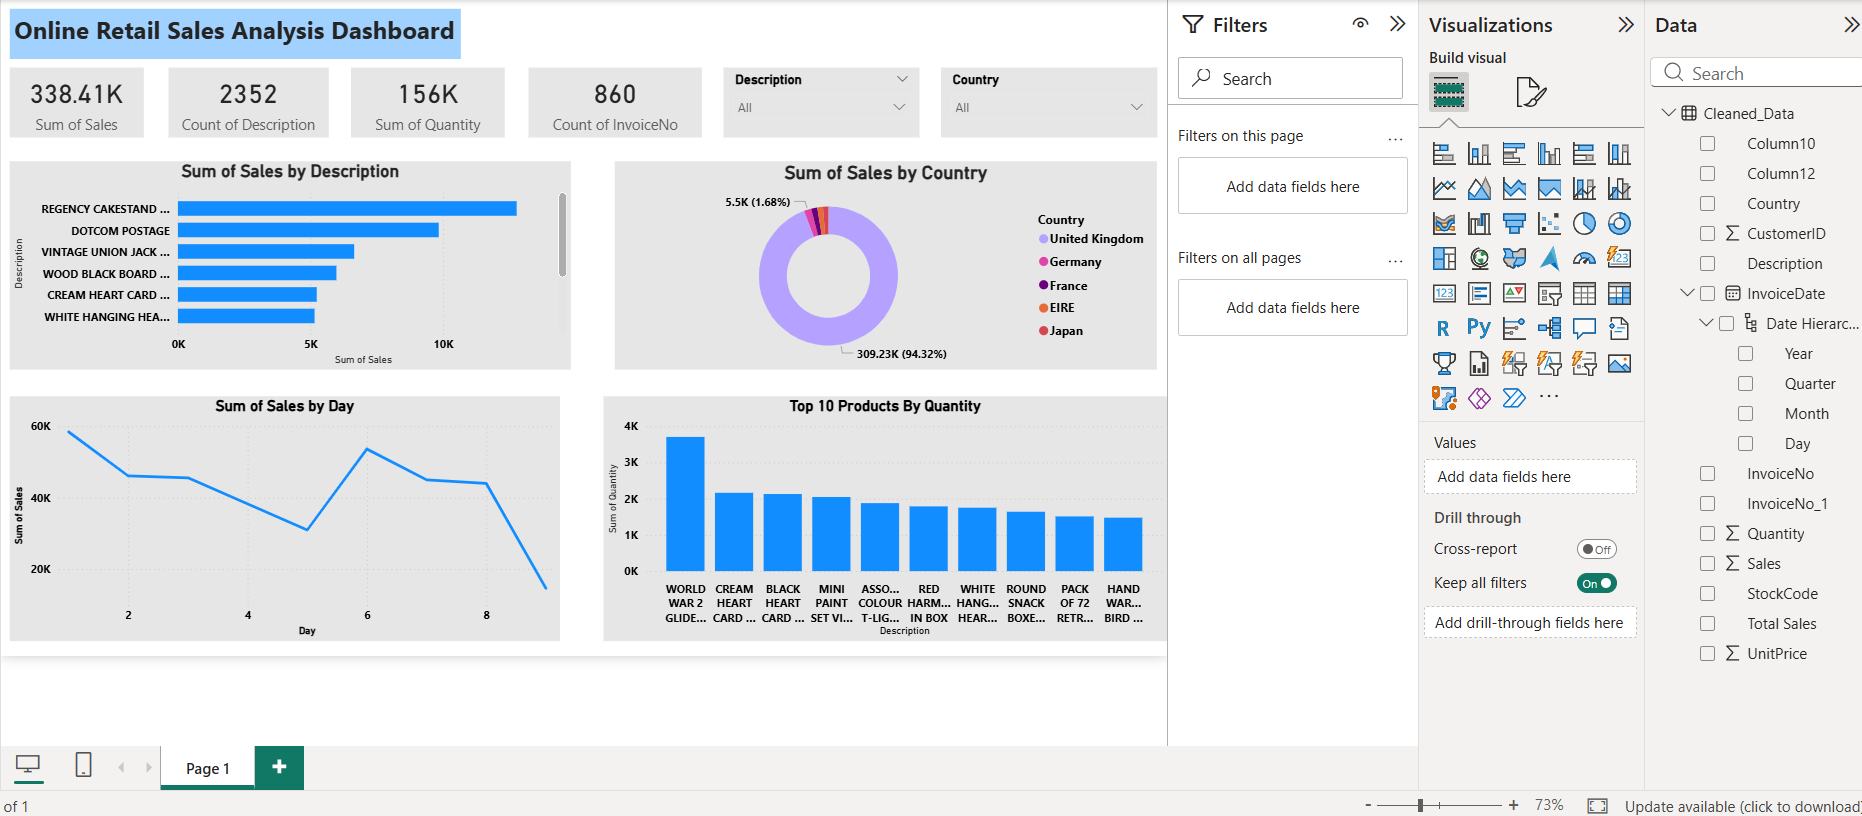

The page's visual inventory and layout, read from the dashboard file:
{"tool":"powerbi","page":{"name":"Page 1","canvas":[1280,720],"ordinal":0},"visuals":[{"type":"card","fields":{"Values":["Sum(Cleaned_Data.Sales)"]},"box":[9.6,74.1,146.8,76.8],"z":0},{"type":"card","fields":{"Values":["Sum(Cleaned_Data.Quantity)"]},"box":[384.2,74.1,168.8,76.8],"z":1000},{"type":"card","fields":{"Values":["Count(Cleaned_Data.InvoiceNo)"]},"box":[579.1,74.1,190.7,76.8],"z":2000},{"type":"card","fields":{"Values":["Count(Cleaned_Data.Description)"]},"box":[183.9,74.1,175.6,76.8],"z":3000},{"type":"clusteredBarChart","fields":{"Category":["Cleaned_Data.Description"],"Y":["Sum(Cleaned_Data.Sales)"]},"box":[9.6,177,616.1,229.2],"z":4000},{"type":"donutChart","fields":{"Category":["Cleaned_Data.Country"],"Y":["Sum(Cleaned_Data.Sales)"]},"box":[673.8,177,595.5,229.2],"z":5000},{"type":"lineChart","fields":{"Category":["Cleaned_Data.InvoiceDate.Variation.Date Hierarchy.Day"],"Y":["Sum(Cleaned_Data.Sales)"]},"box":[9.6,435,603.8,269],"z":6000},{"type":"slicer","fields":{"Values":["Cleaned_Data.Country"]},"box":[1031.9,74.1,237.4,76.8],"z":7000},{"type":"slicer","fields":{"Values":["Cleaned_Data.Description"]},"box":[793.1,74.1,215.4,76.8],"z":8000},{"type":"clusteredColumnChart","title":"Top 10 Products By Quantity","fields":{"Category":["Cleaned_Data.Description"],"Y":["Sum(Cleaned_Data.Quantity)"]},"box":[661.4,435,618.9,269],"z":8001},{"type":"textbox","box":[9.6,9.6,495.4,54.9],"z":8002}]}

Visuals, with their boxes on the page's 1280x720 design canvas (x1, y1, x2, y2). These are canvas units, not pixel positions in the 1862x816 screenshot, which may show the page scaled, cropped or inside an application window:
card - Sum(Cleaned_Data.Sales): [left=10, top=74, right=156, bottom=151]
card - Sum(Cleaned_Data.Quantity): [left=384, top=74, right=553, bottom=151]
card - Count(Cleaned_Data.InvoiceNo): [left=579, top=74, right=770, bottom=151]
card - Count(Cleaned_Data.Description): [left=184, top=74, right=360, bottom=151]
clusteredBarChart - Cleaned_Data.Description x Sum(Cleaned_Data.Sales): [left=10, top=177, right=626, bottom=406]
donutChart - Cleaned_Data.Country x Sum(Cleaned_Data.Sales): [left=674, top=177, right=1269, bottom=406]
lineChart - Cleaned_Data.InvoiceDate.Variation.Date Hierarchy.Day x Sum(Cleaned_Data.Sales): [left=10, top=435, right=613, bottom=704]
slicer - Cleaned_Data.Country: [left=1032, top=74, right=1269, bottom=151]
slicer - Cleaned_Data.Description: [left=793, top=74, right=1008, bottom=151]
"Top 10 Products By Quantity" clusteredColumnChart: [left=661, top=435, right=1280, bottom=704]
textbox: [left=10, top=10, right=505, bottom=64]
